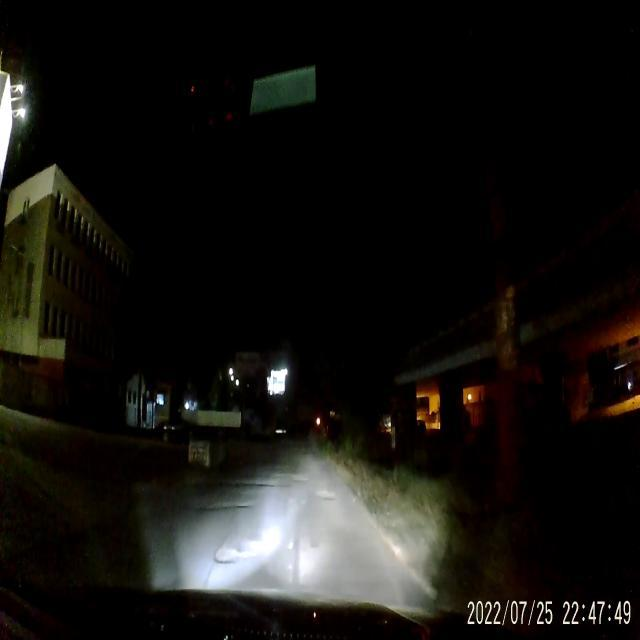Pothole: (214, 542, 248, 566), (202, 499, 245, 513), (235, 480, 285, 490), (314, 486, 339, 505)
